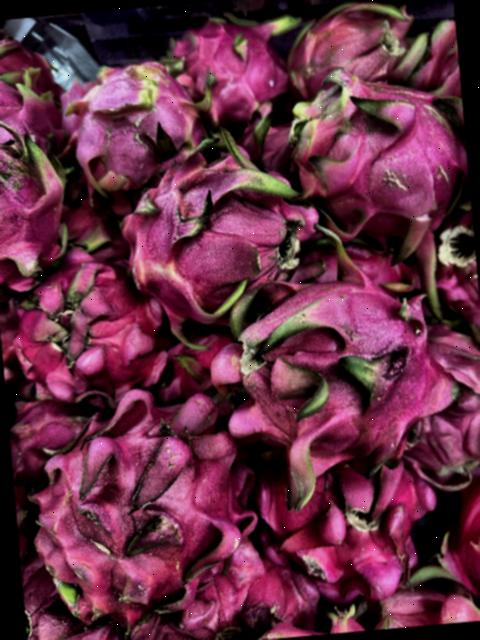buah-naga-matang: (23, 380, 256, 614), (203, 264, 446, 462), (278, 66, 474, 248), (106, 136, 302, 312), (241, 438, 446, 602), (5, 257, 174, 401), (62, 47, 204, 192), (130, 534, 323, 640), (167, 12, 312, 122), (0, 102, 74, 290), (282, 0, 420, 92), (20, 553, 124, 640)
